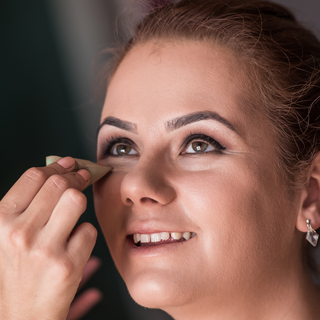eye: (176, 131, 227, 160), (101, 138, 140, 163)
